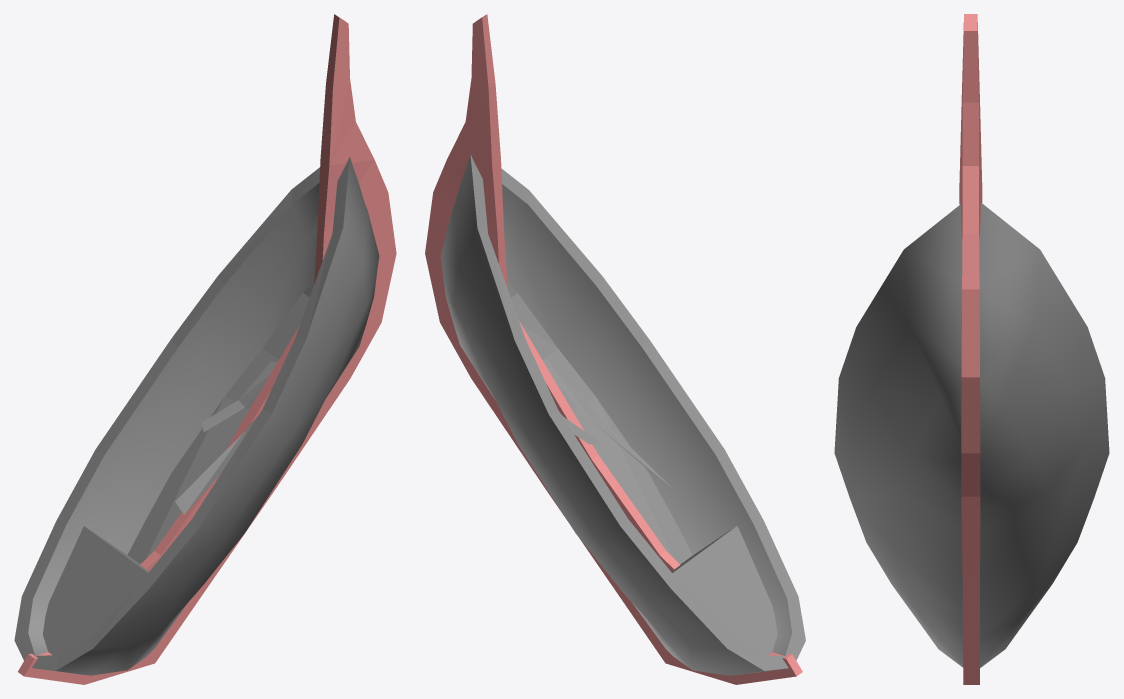
The model's file is PriMT_port_ship.gltf.
3 renders of one model, left to right at view 1: azimuth 30°, elevation 25°; view 2: azimuth 150°, elevation 25°; view 3: azimuth 270°, elevation 25°, orthographic. The views are drawn at different scales.
Parts seen in each view (by area): view 1: PriMT_port_ship; view 2: PriMT_port_ship; view 3: PriMT_port_ship.
Boxes of the visible parts, bbox=[...] form: PriMT_port_ship: bbox=[14, 14, 396, 684]; PriMT_port_ship: bbox=[425, 14, 805, 684]; PriMT_port_ship: bbox=[834, 14, 1109, 684].
Size of the model in its own units: 1.05 by 1.63 by 0.5124.
